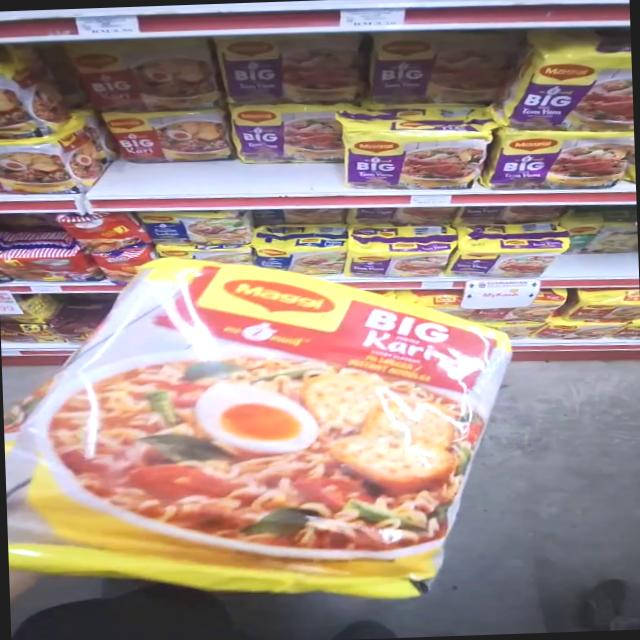Maggi: (4, 378, 492, 618), (32, 265, 562, 466)
